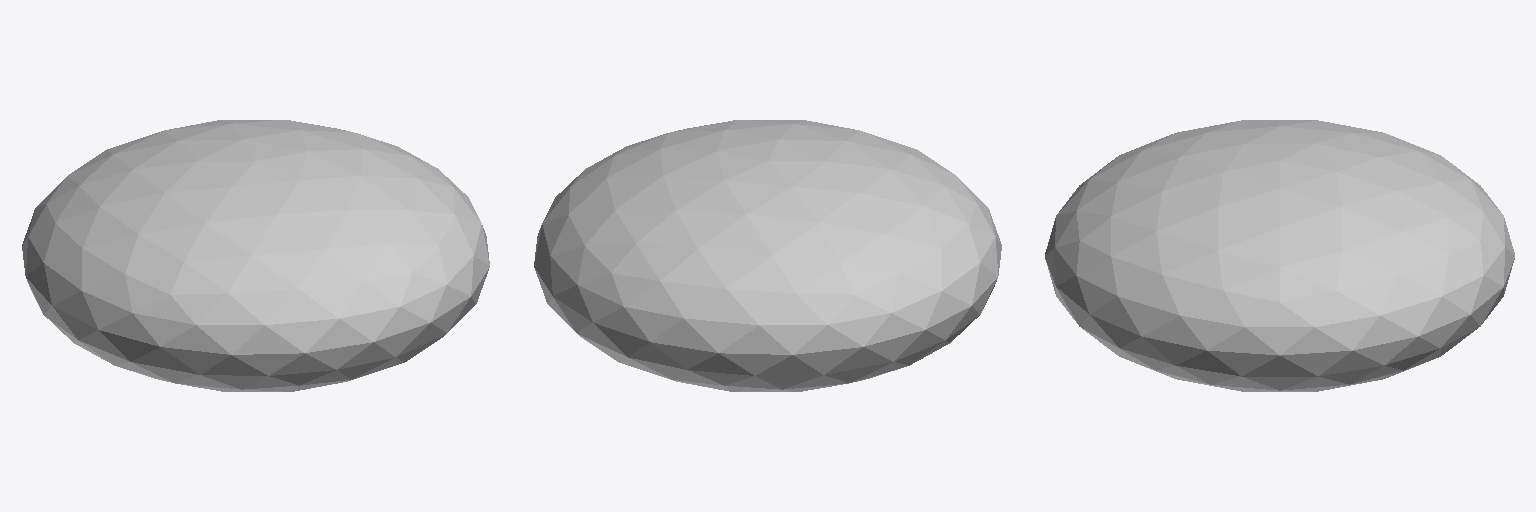
The model's file is stone.obj.
3 views of the same model, side by side, from view 1: azimuth 30°, elevation 25°; view 2: azimuth 150°, elevation 25°; view 3: azimuth 270°, elevation 25° (orthographic).
Visible parts, largest first — view 1: Icosphere; view 2: Icosphere; view 3: Icosphere.
Boxes of the visible parts, x1=… form: Icosphere: x1=22, y1=120, x2=489, y2=391; Icosphere: x1=534, y1=120, x2=1001, y2=391; Icosphere: x1=1045, y1=120, x2=1514, y2=391.
Size of the model in its own units: 1.8 by 0.8026 by 1.8.